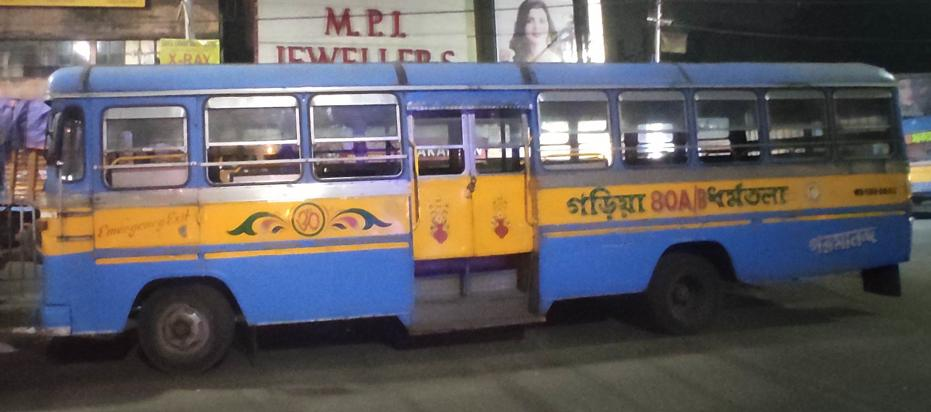Bus: (33, 48, 915, 381)
